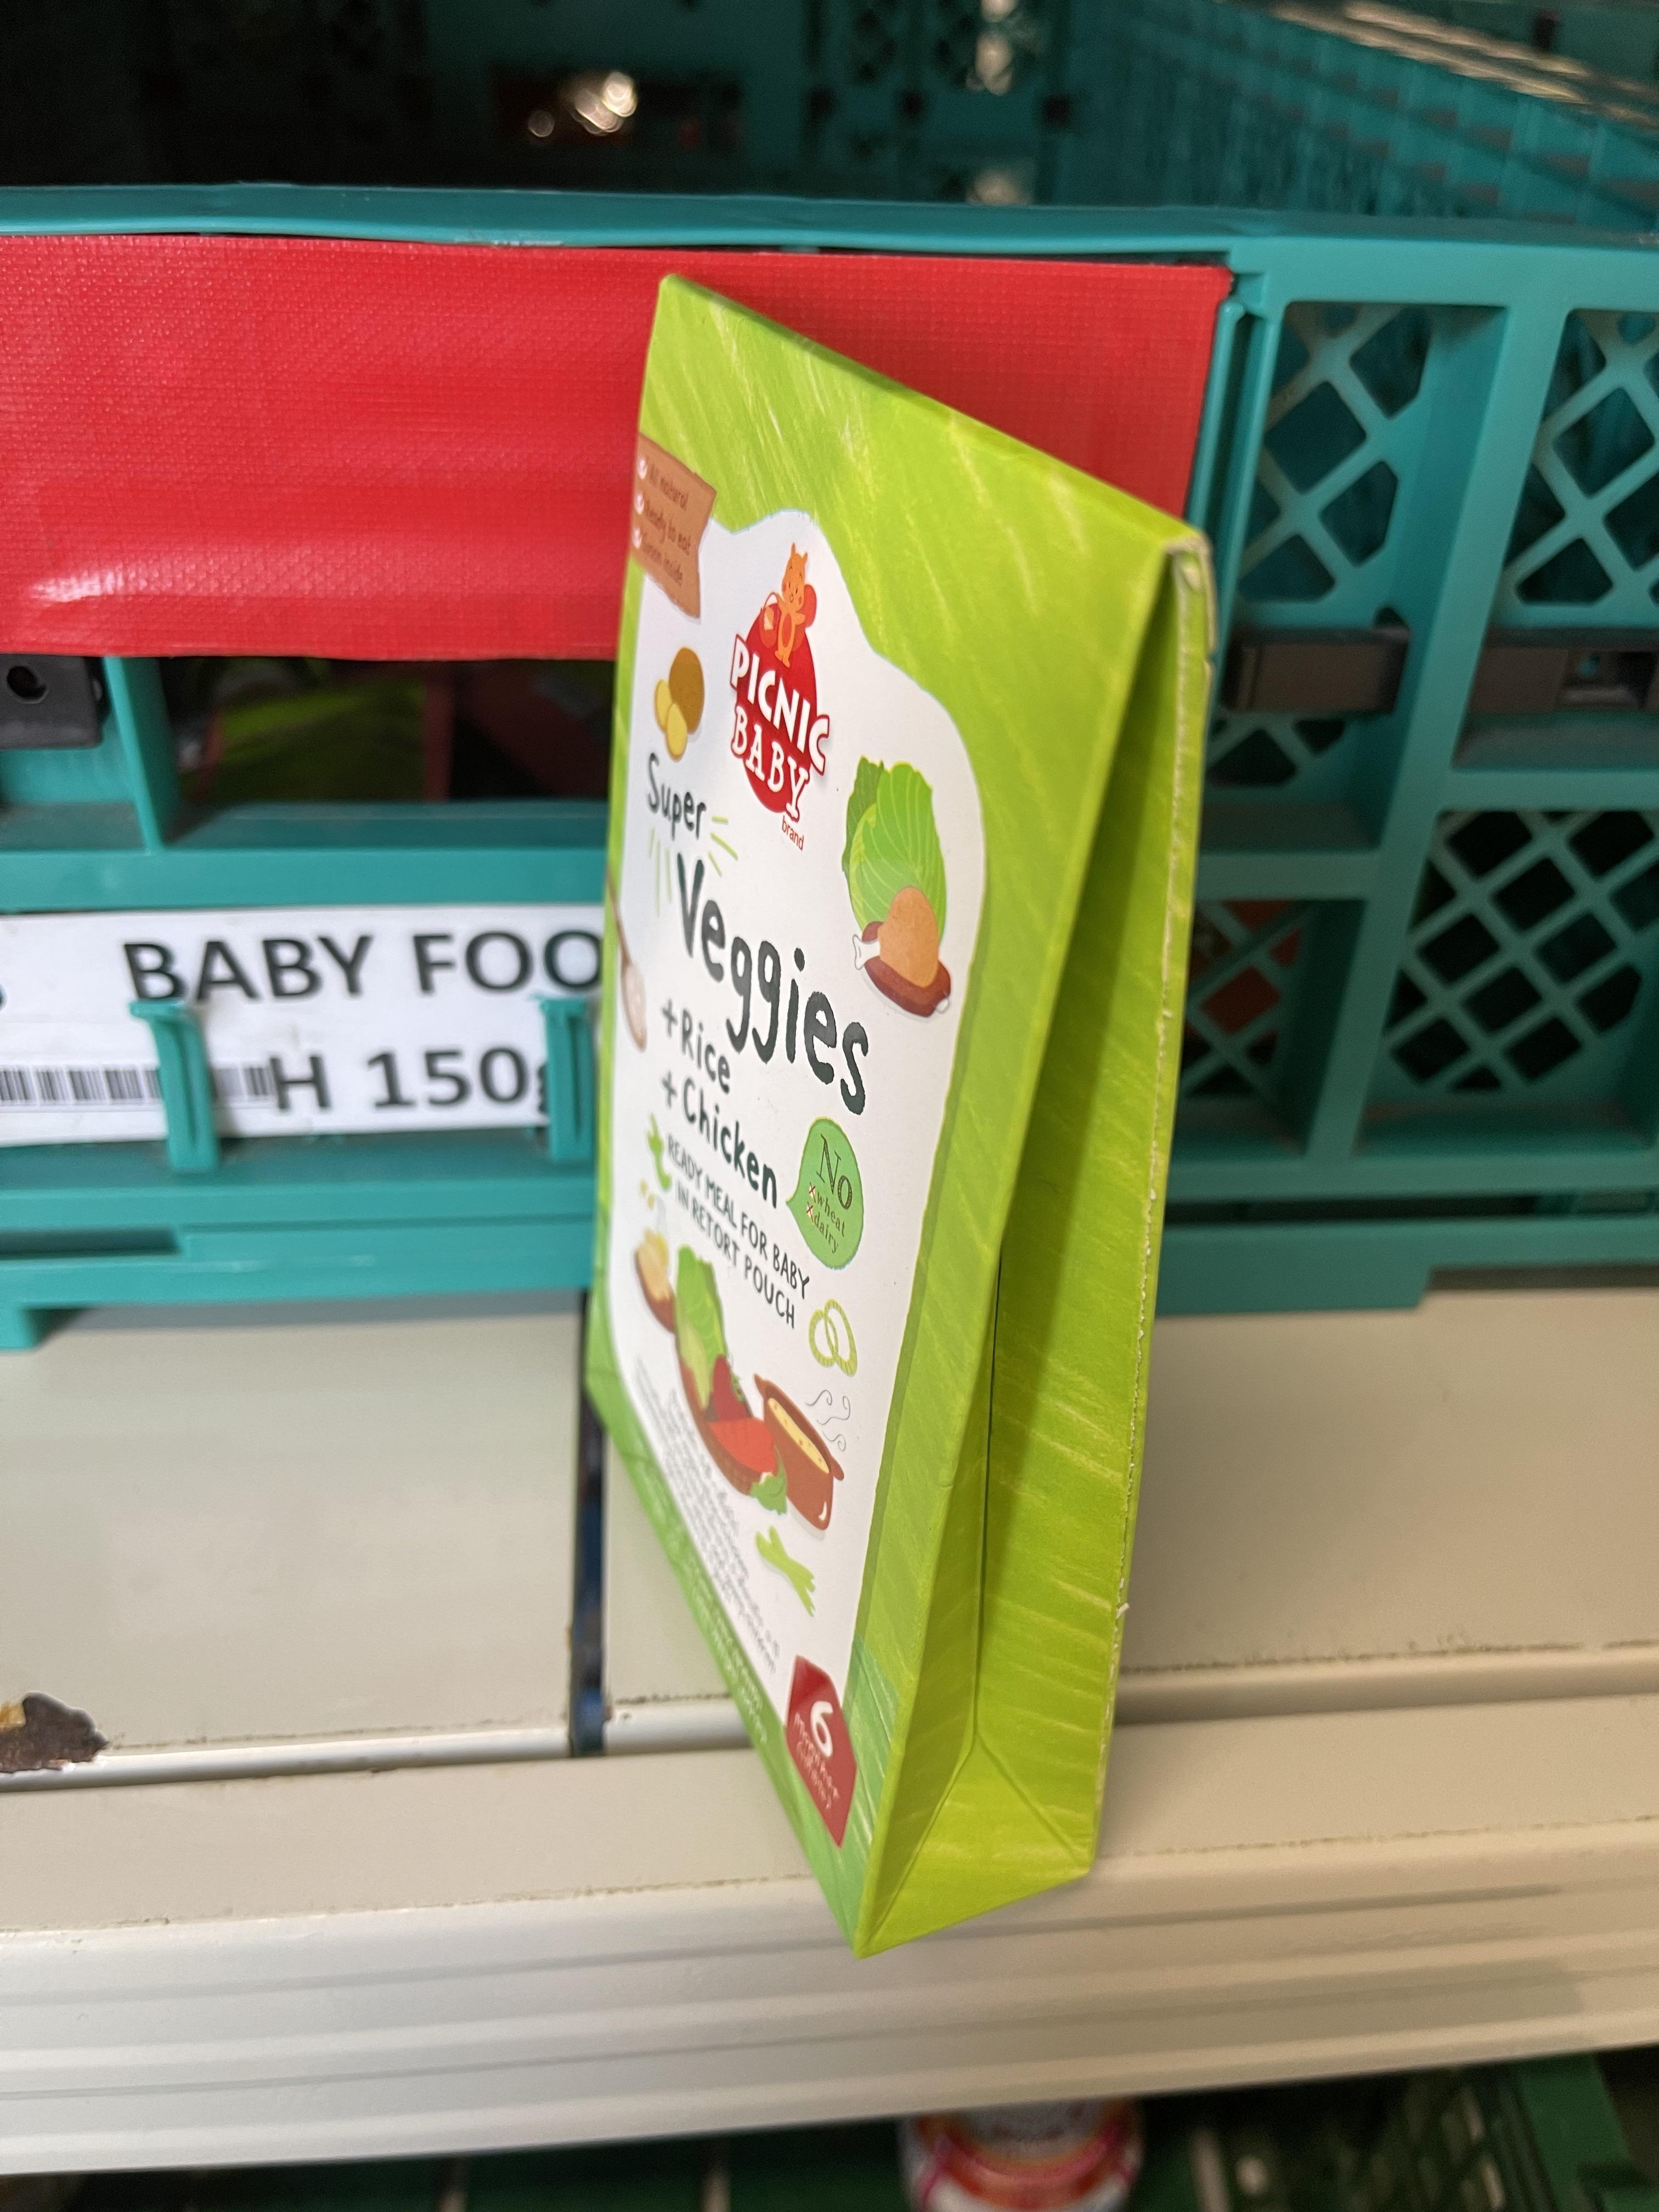object_name: (666, 305, 1084, 1850)
